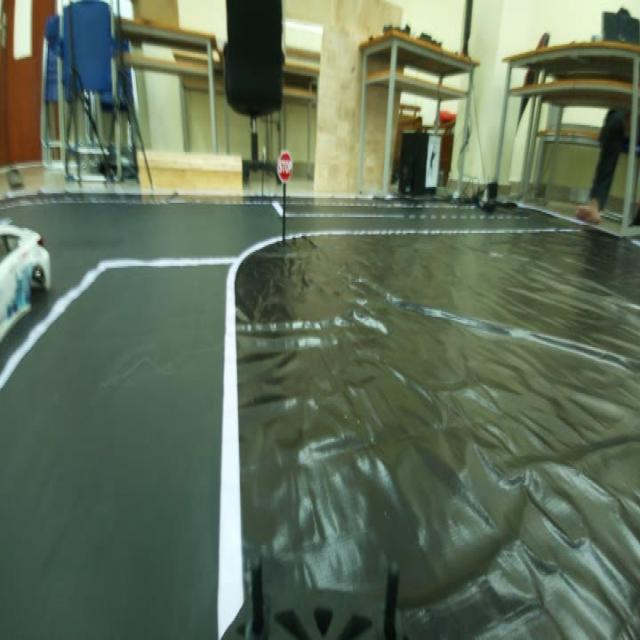stop: (274, 146, 298, 180)
